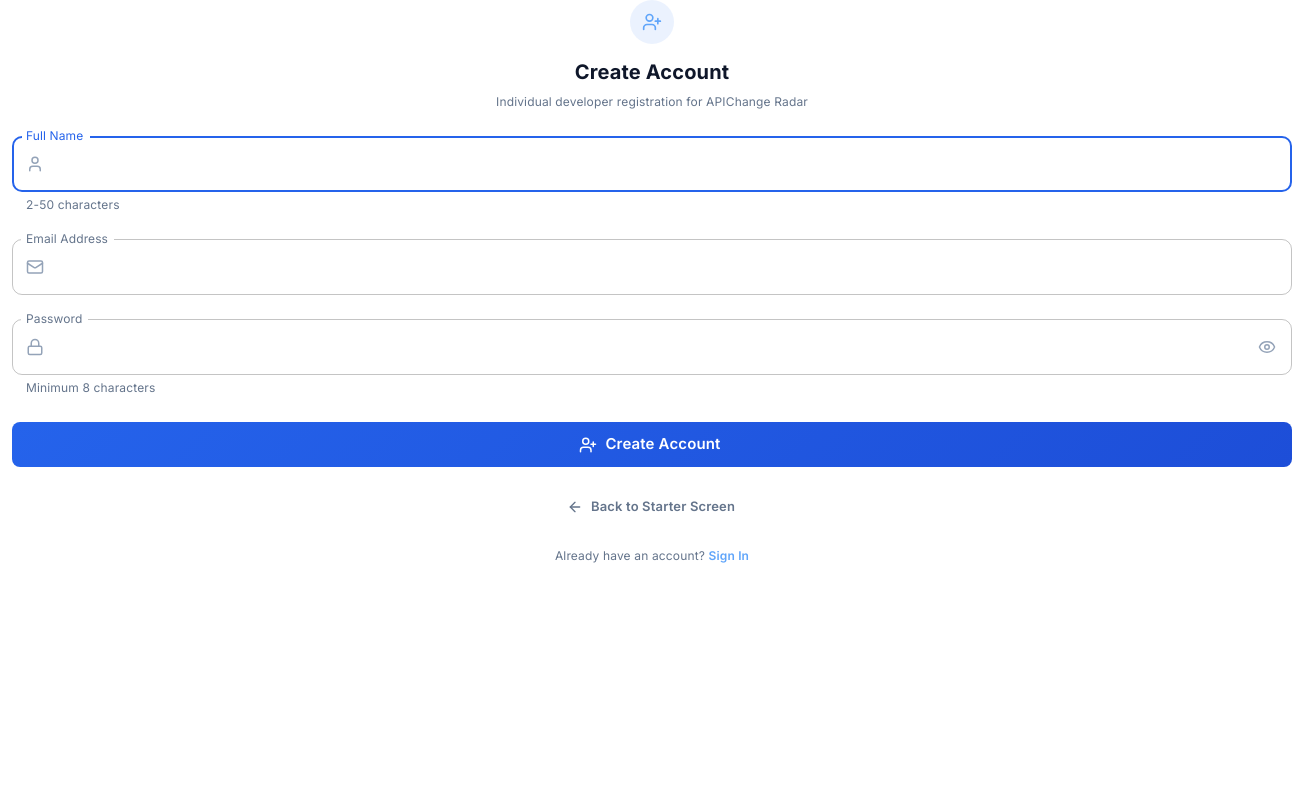
RegisterPage › handles duplicate email (409 Conflict) and renders link to login
The width and height of the screenshot is (1304, 800).
Type "Alice Smith" into the field labelled "Full Name".
click(672, 164); type("Alice Smith")  # box [52,136,1292,192]
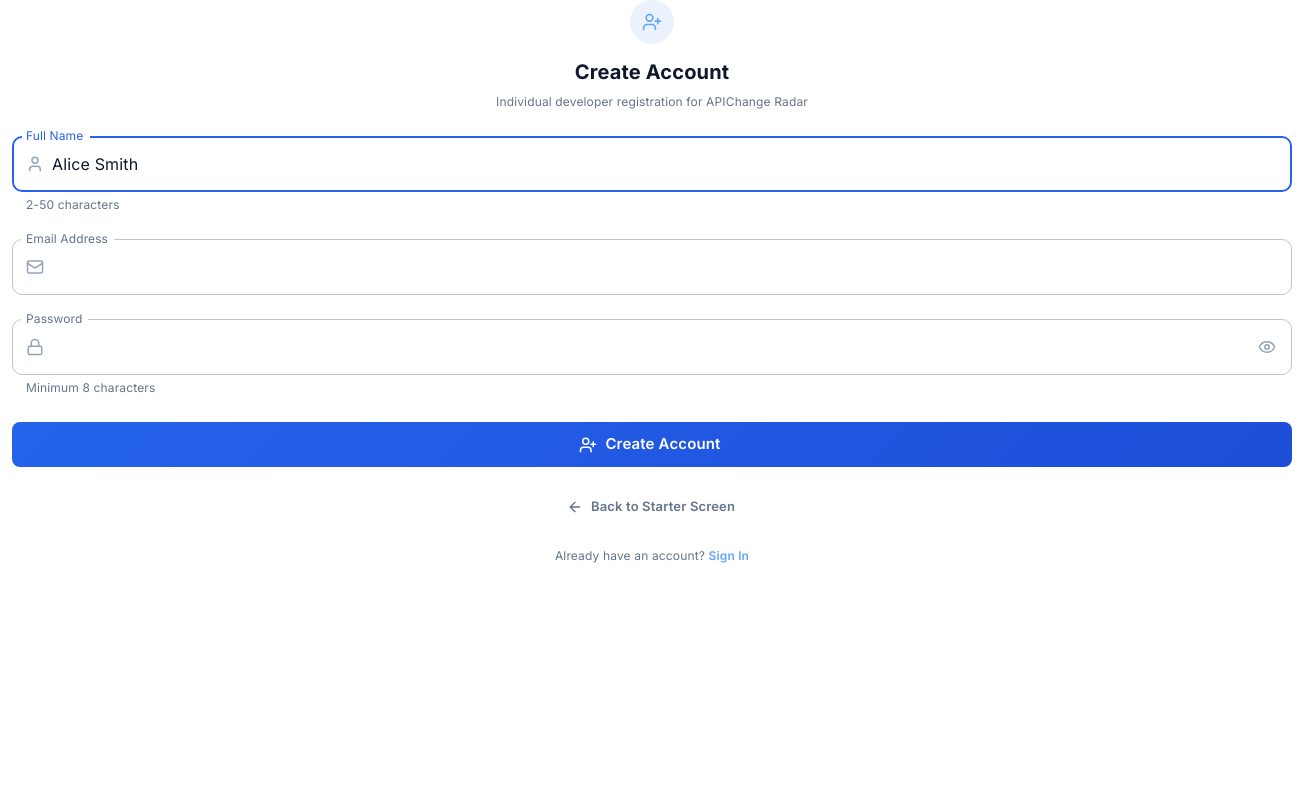
Type "alice@example.com" into the field labelled "Email Address".
click(672, 267); type("alice@example.com")  # box [52,239,1292,295]
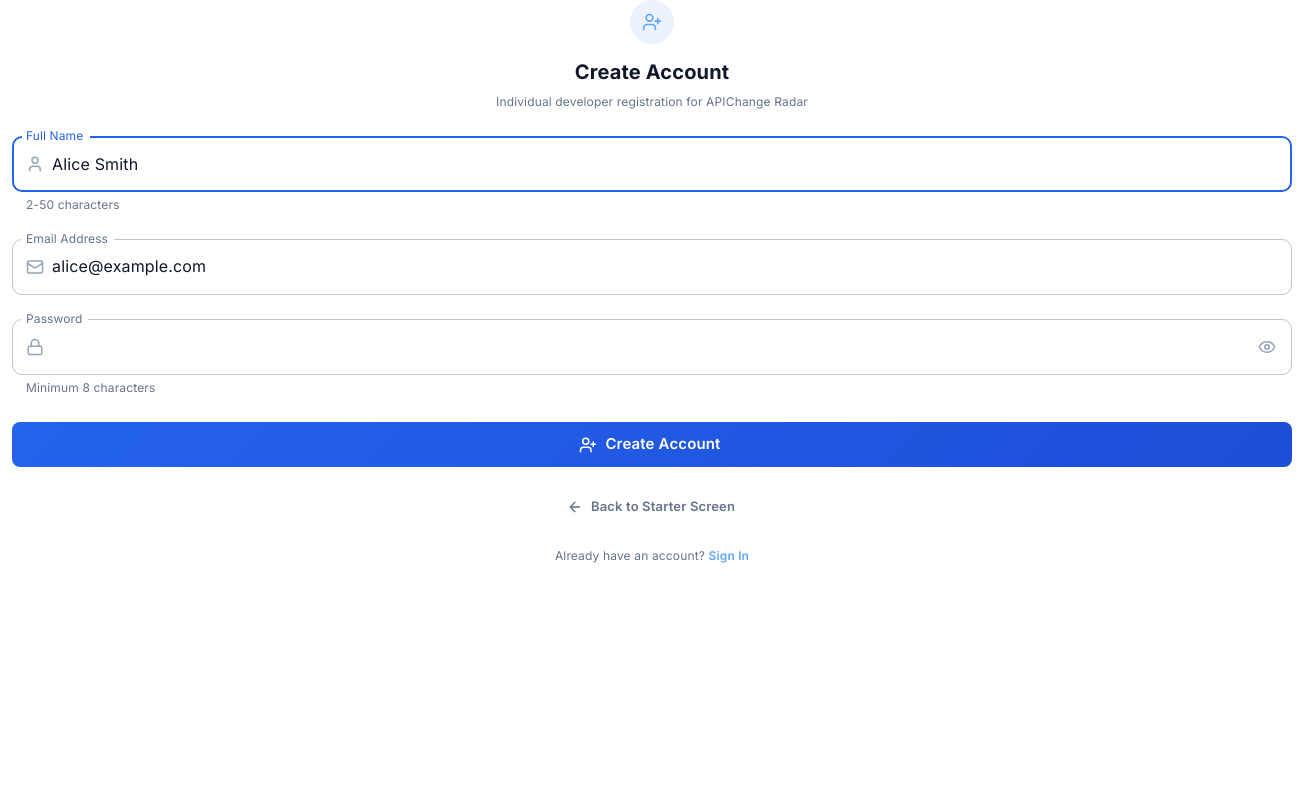
Type "StrongPassword123!" into the password field labelled "Password".
click(648, 347); type("StrongPassword123!")  # box [52,319,1245,375]
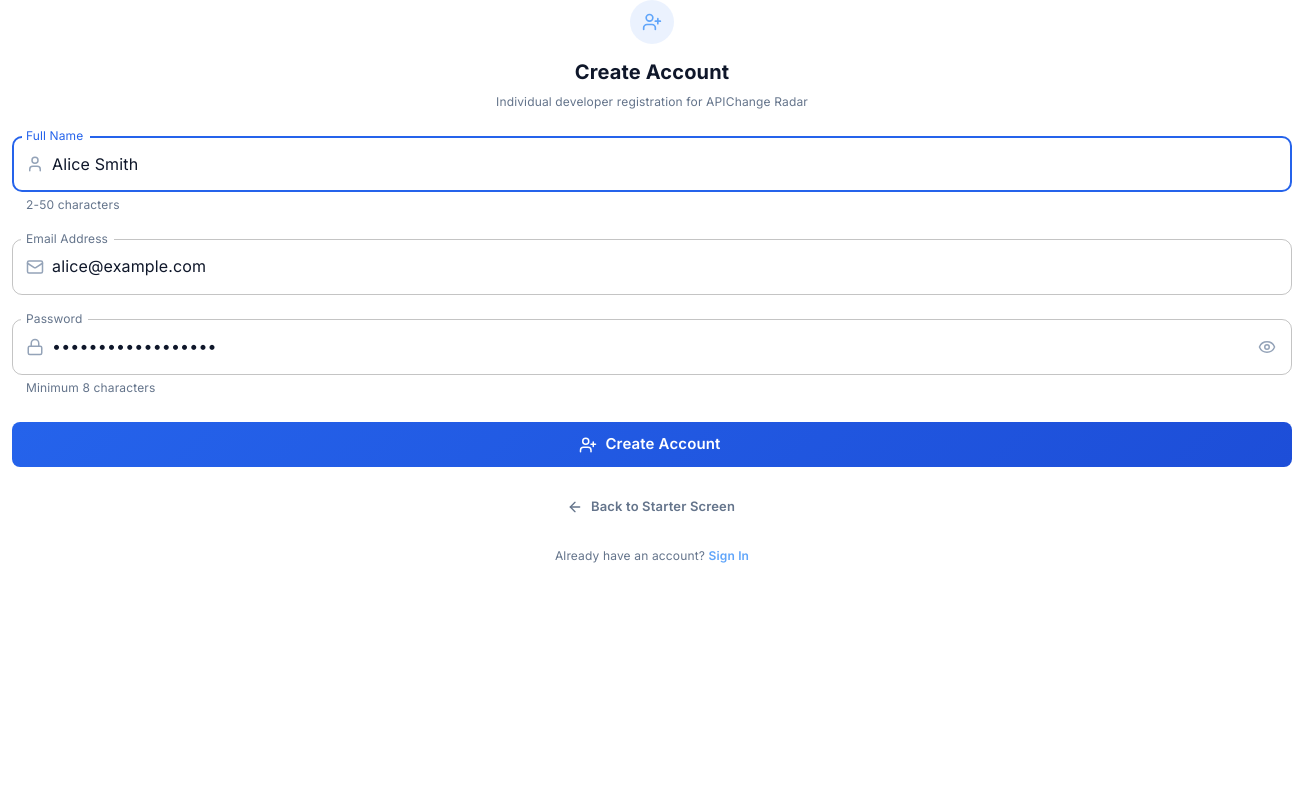
Click the button "Create Account".
click(652, 444)  # box [12,422,1292,467]
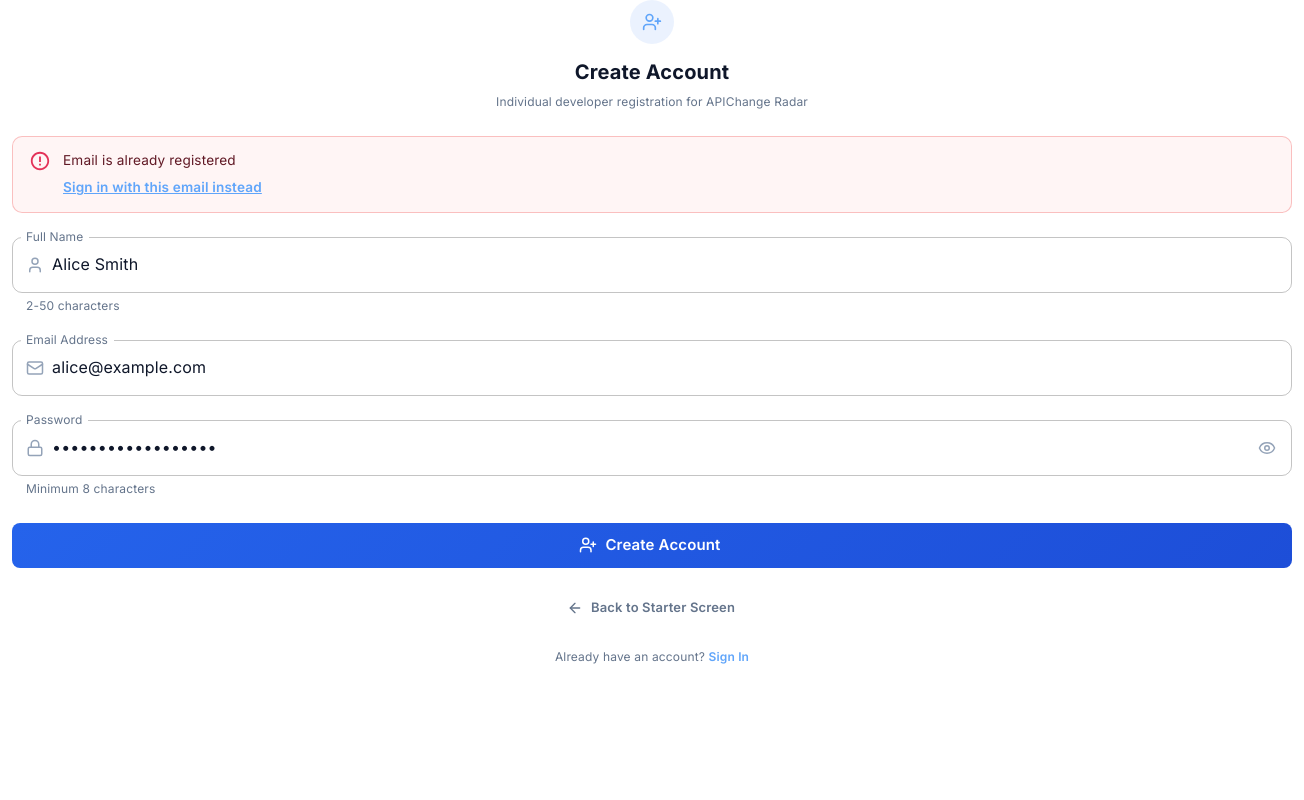
Expected: the text "Email is already registered" is shown, [63,152,236,168]
Expected: the link "Sign in with this email instead" is shown, [63,179,262,195]
